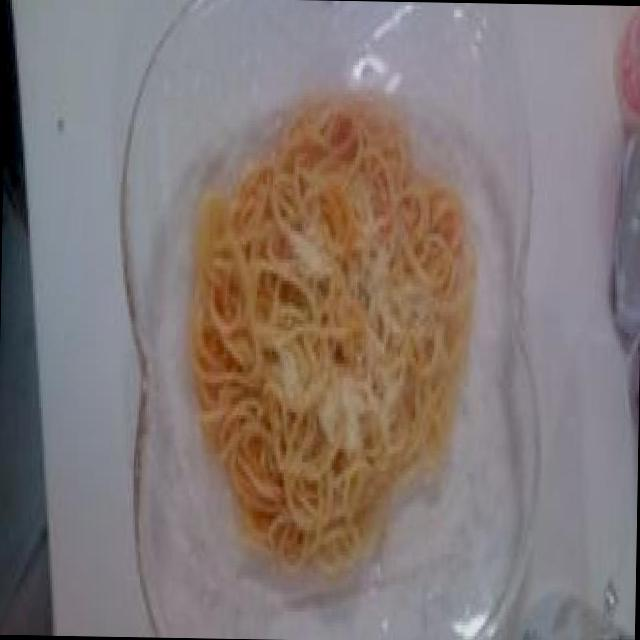Pasta: (195, 135, 460, 574)
